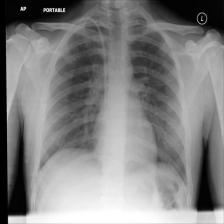normal: (30, 8, 193, 213)
